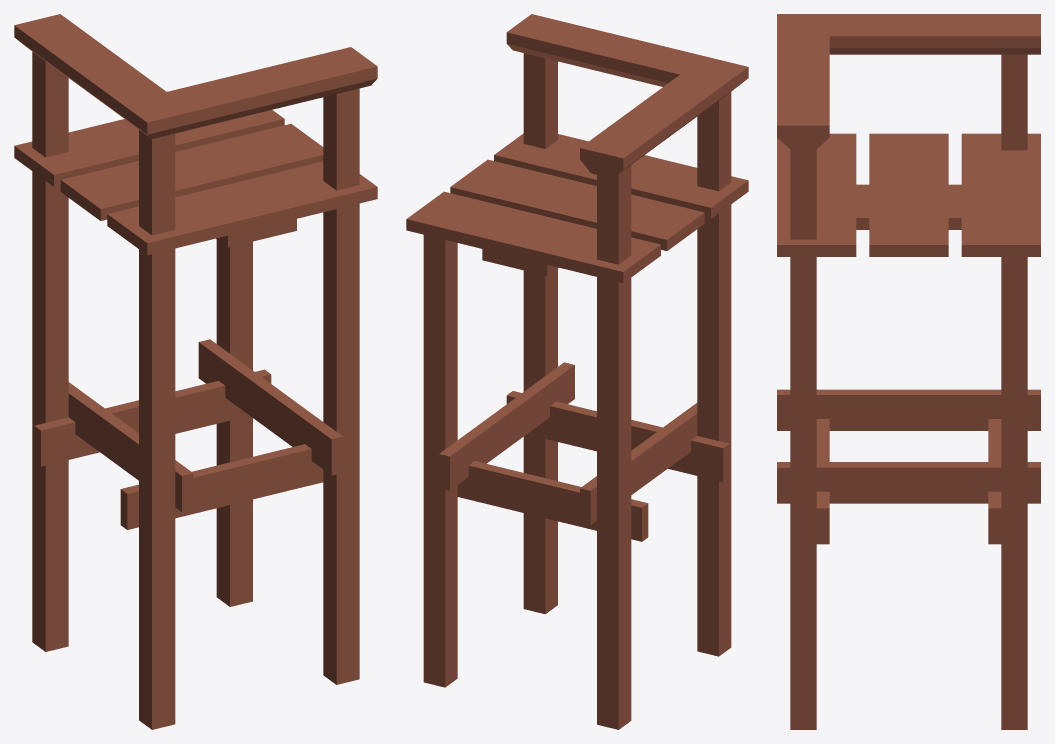
Rendered from scaffold_small_high_cornerRight 1.fbx.
3 views of the same model, side by side, from view 1: azimuth 30°, elevation 25°; view 2: azimuth 150°, elevation 25°; view 3: azimuth 270°, elevation 25° (orthographic). The views are drawn at different scales.
Parts seen in each view (by area): view 1: scaffold_small_high_cornerRight; view 2: scaffold_small_high_cornerRight; view 3: scaffold_small_high_cornerRight.
Boxes of the visible parts, x1,y1,x2,y2 form: scaffold_small_high_cornerRight: [14, 14, 377, 729]; scaffold_small_high_cornerRight: [406, 14, 748, 729]; scaffold_small_high_cornerRight: [777, 14, 1040, 729].
Size of the model in its own units: 200 by 510 by 200.
